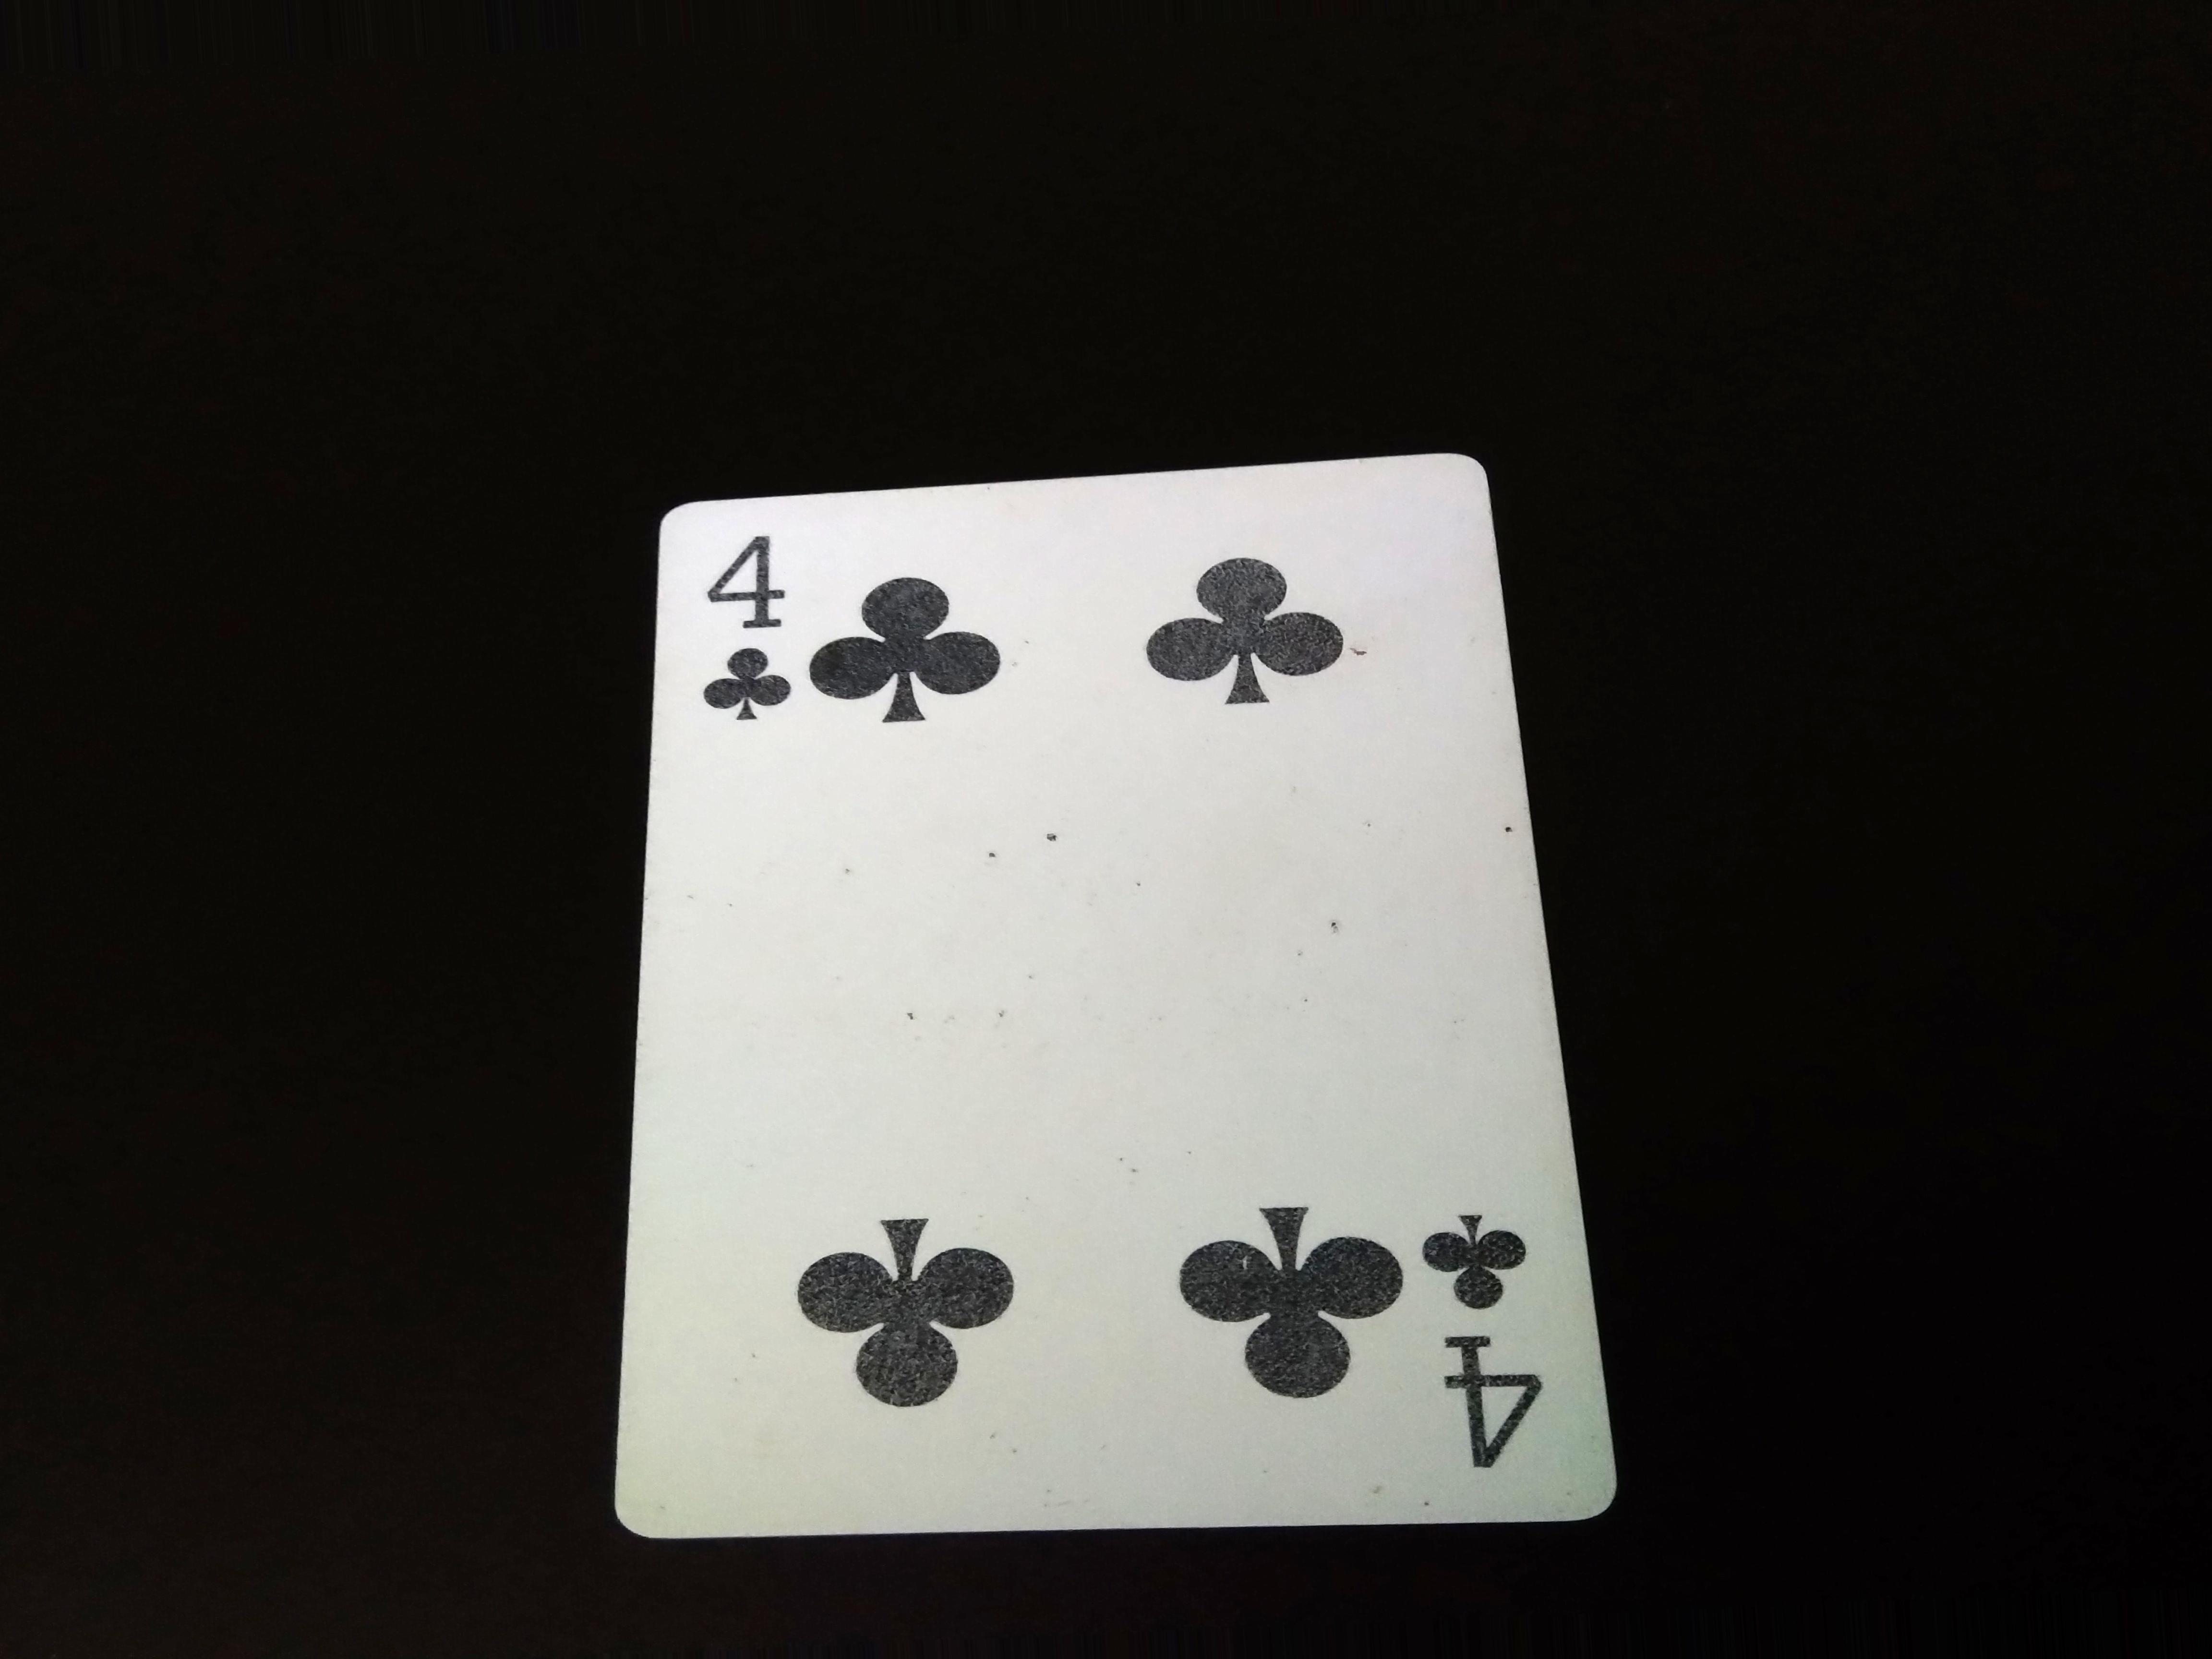4C: (1439, 1201, 1543, 1485)
